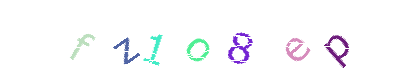1: (138, 0, 218, 80)
8: (200, 0, 280, 80)
E: (250, 0, 330, 80)
F: (76, 0, 156, 80)
O: (166, 0, 246, 80)
P: (298, 0, 378, 80)
Z: (90, 0, 170, 80)
